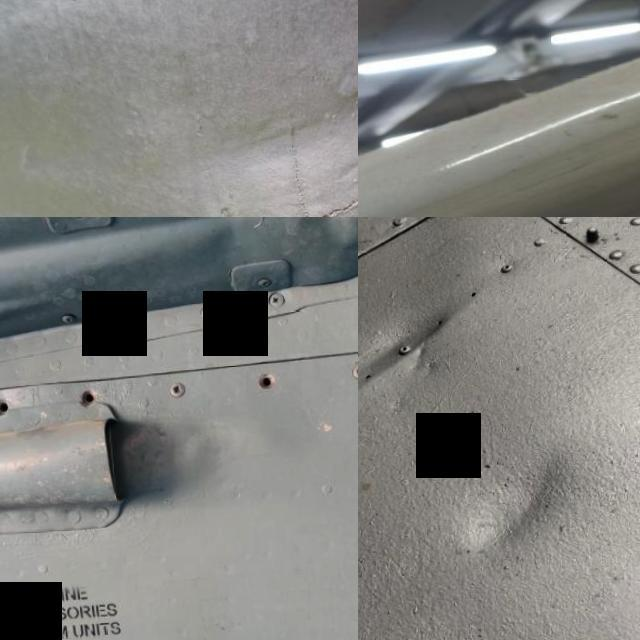Crack: (132, 121, 358, 217)
Dent: (408, 412, 616, 620)
Missing_Fastener: (239, 358, 290, 406), (68, 380, 110, 416), (0, 386, 21, 429)
